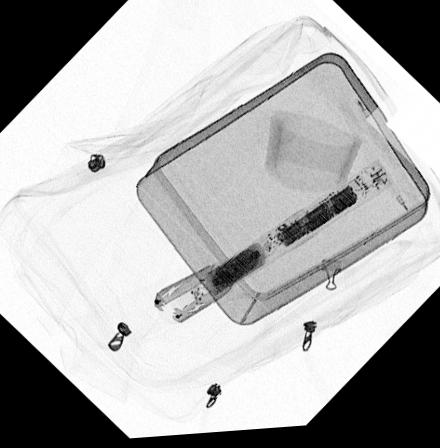Baton: (152, 162, 394, 325)
